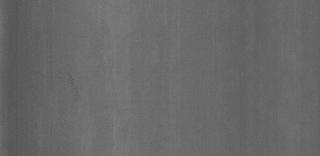water spot: (60, 66, 86, 106)
